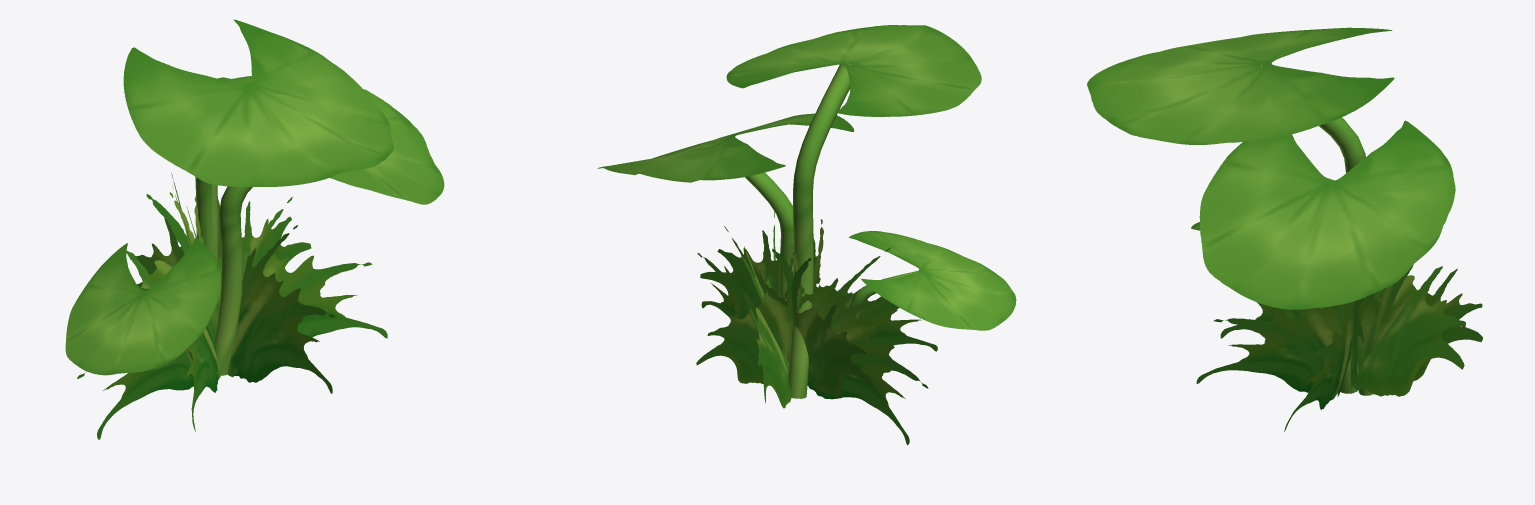
Rendered from FlyLiLi.fbx.
3 renders of one model, left to right at view 1: azimuth 30°, elevation 25°; view 2: azimuth 150°, elevation 25°; view 3: azimuth 270°, elevation 25°, orthographic. The views are drawn at different scales.
Parts seen in each view (by area): view 1: Plane.015; view 2: Plane.015; view 3: Plane.015.
Part boxes in pixels (box(x1,y1,x2,y2)): Plane.015: box(65, 19, 444, 439); Plane.015: box(597, 25, 1016, 445); Plane.015: box(1087, 27, 1482, 431).
Size of the model in its own units: 192 by 167 by 153.
1 material, 1 textured.
